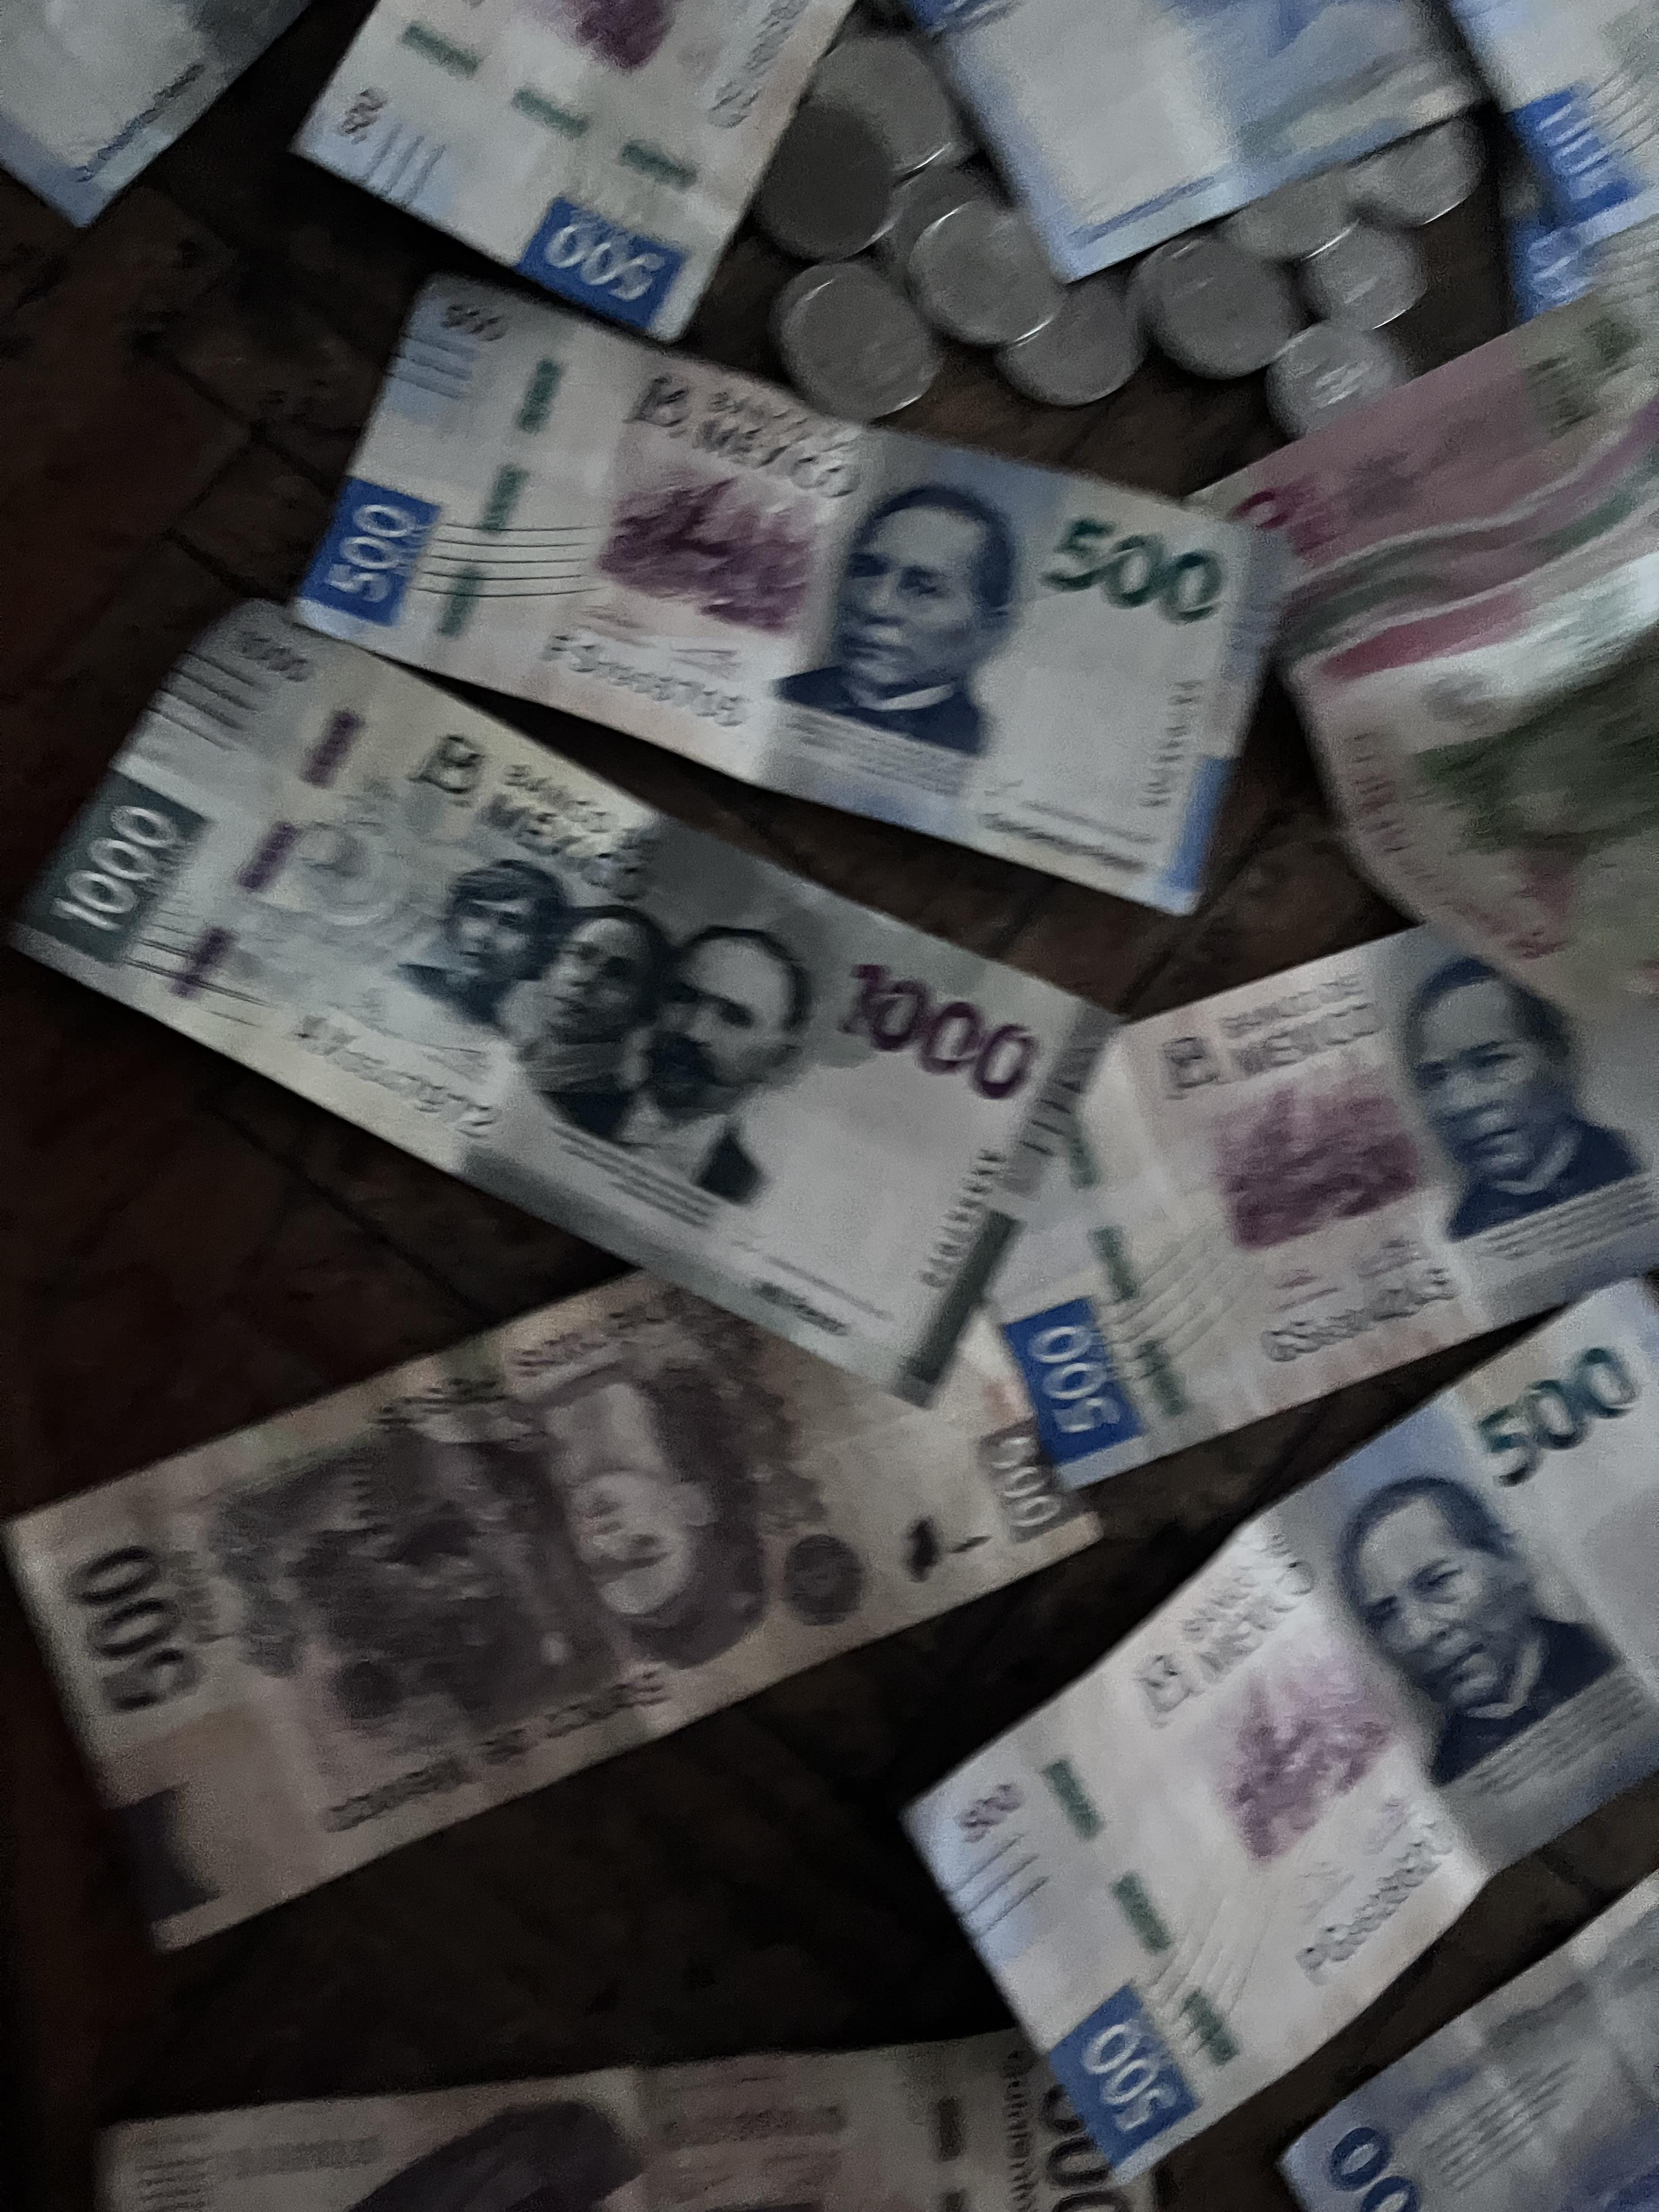1000: (19, 564, 1046, 1402)
20: (1180, 200, 1659, 1073)
500: (3, 1193, 1053, 1961), (58, 2036, 1152, 2212)
500 nuevo: (840, 1245, 1659, 2167), (331, 268, 1283, 911), (899, 921, 1659, 1432), (239, 0, 904, 345), (911, 0, 1659, 266)
